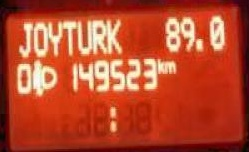-: (195, 35, 201, 50)
0: (208, 14, 224, 50), (31, 20, 46, 57), (15, 60, 30, 94)
1: (70, 60, 76, 92)
2: (125, 57, 139, 88)
3: (141, 55, 156, 89)
4: (76, 60, 92, 90)
5: (109, 57, 124, 90)
8: (164, 15, 179, 50)
9: (179, 15, 194, 50), (94, 59, 109, 90)
X: (75, 17, 91, 53), (91, 17, 106, 53), (106, 17, 121, 53), (46, 20, 61, 55), (16, 20, 31, 55), (61, 19, 75, 54), (107, 103, 116, 132), (164, 59, 175, 74), (155, 57, 164, 73)
